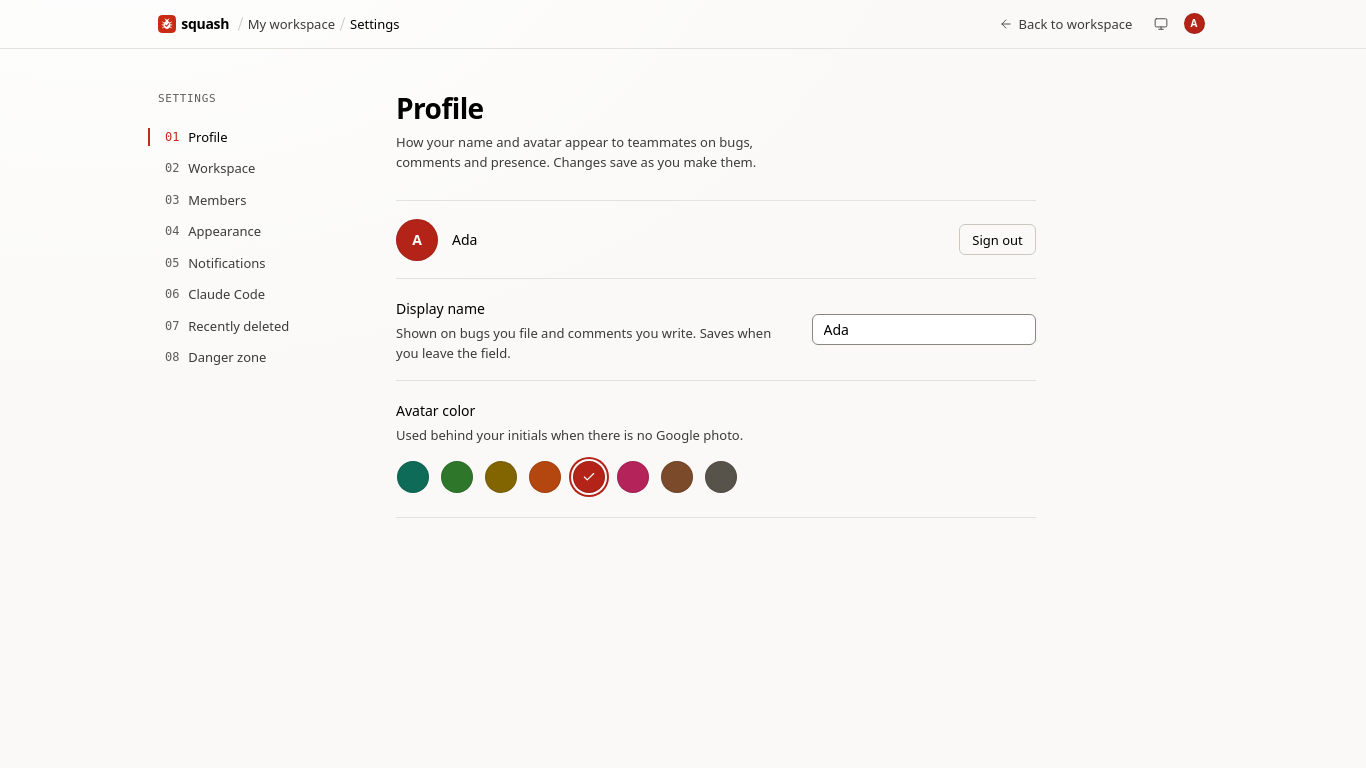
Test: Settings › renders tabs, defaults to profile, and switches panels
Expected: the field labelled "Display name" holds "Ada", [812,314,1036,345]
Expected: the button "Sign out" is shown, [959,224,1036,255]
Click the link "02 Workspace".
click(210, 168)  # box [165,159,255,177]
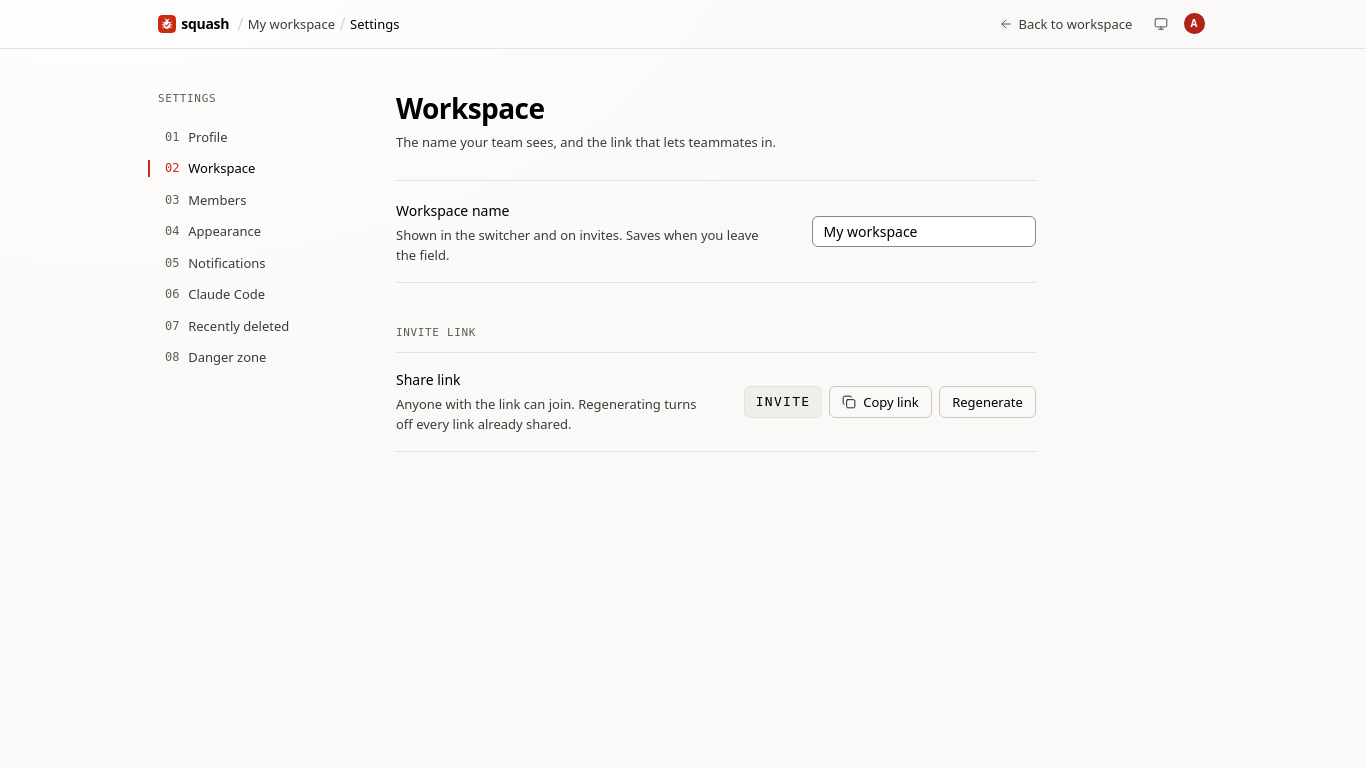
Expected: the field labelled "Workspace name" holds "My workspace", [812,216,1036,247]
Click the link "03 Members".
click(206, 200)  # box [165,191,246,209]
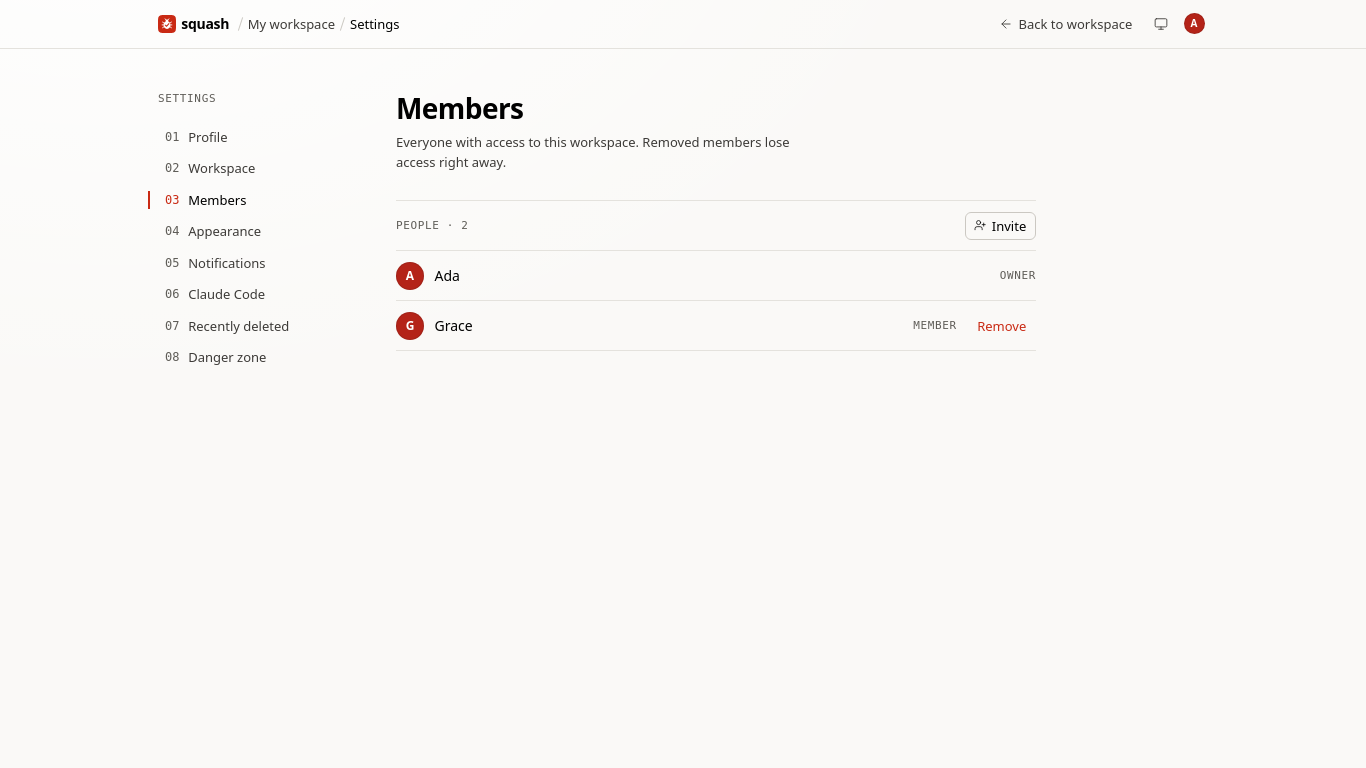
Expected: the text "Grace" is shown, [434,316,473,334]
Click the button "Invite".
click(1000, 226)  # box [965,212,1036,240]
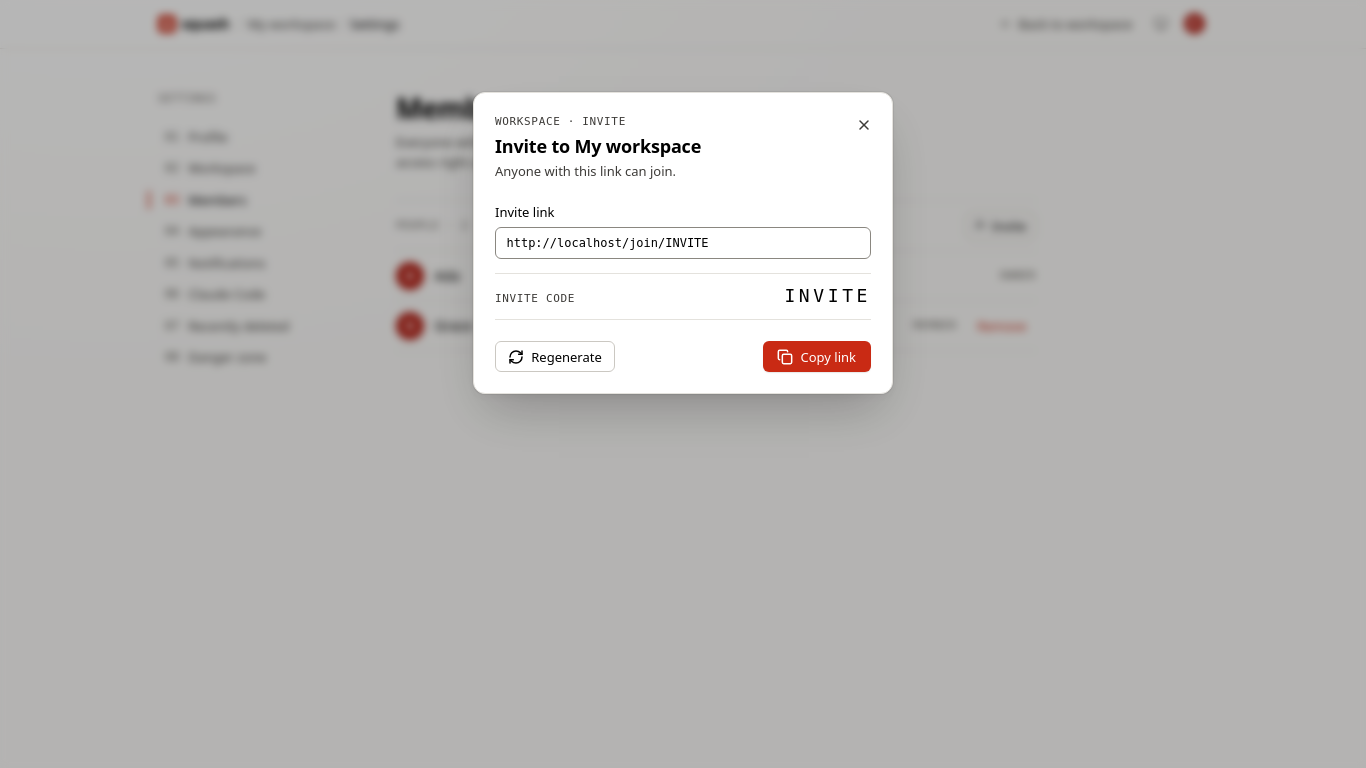
Expected: the dialog named "Invite people" is shown, [473,92,893,394]
Click the button named "Close".
click(864, 125)  # box [850,111,878,139]
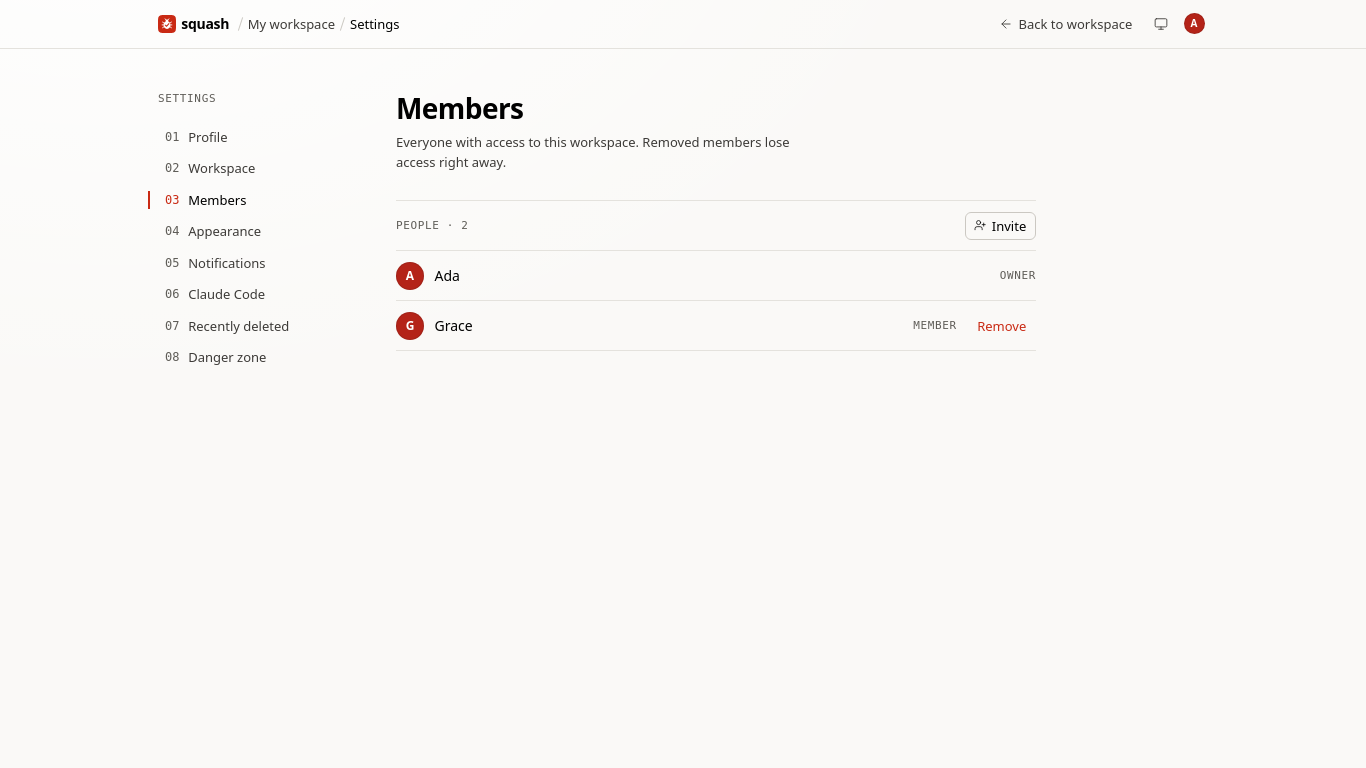
Click the link "07 Recently deleted".
click(227, 326)  # box [165,317,289,335]
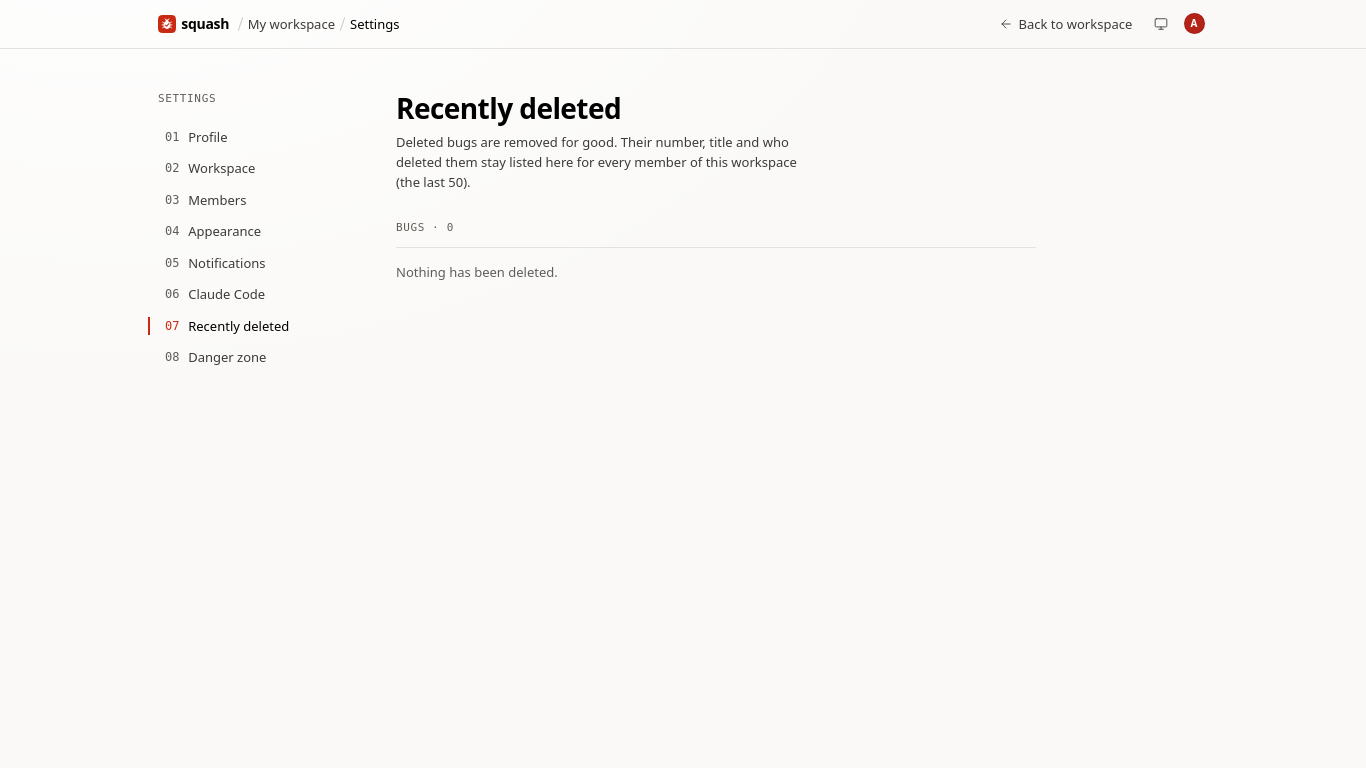
Expected: the heading "Recently deleted" is shown, [396,89,621,127]
Expected: the text "Nothing has been deleted." is shown, [396,262,558,280]
Click the link "08 Danger zone".
click(216, 357)  # box [165,348,266,366]
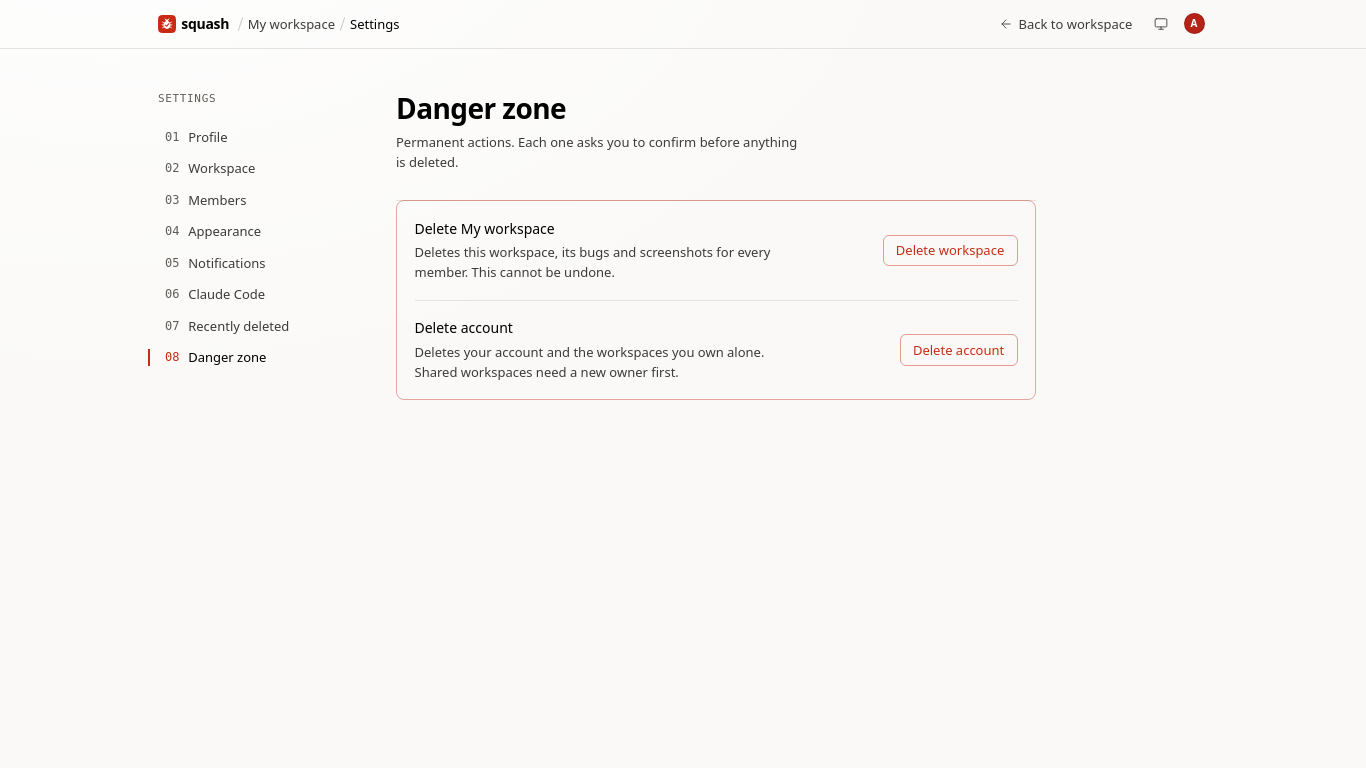
Expected: the button "Delete workspace" is shown, [883,234,1018,266]
Expected: the button "Delete account" is shown, [900,334,1018,366]
